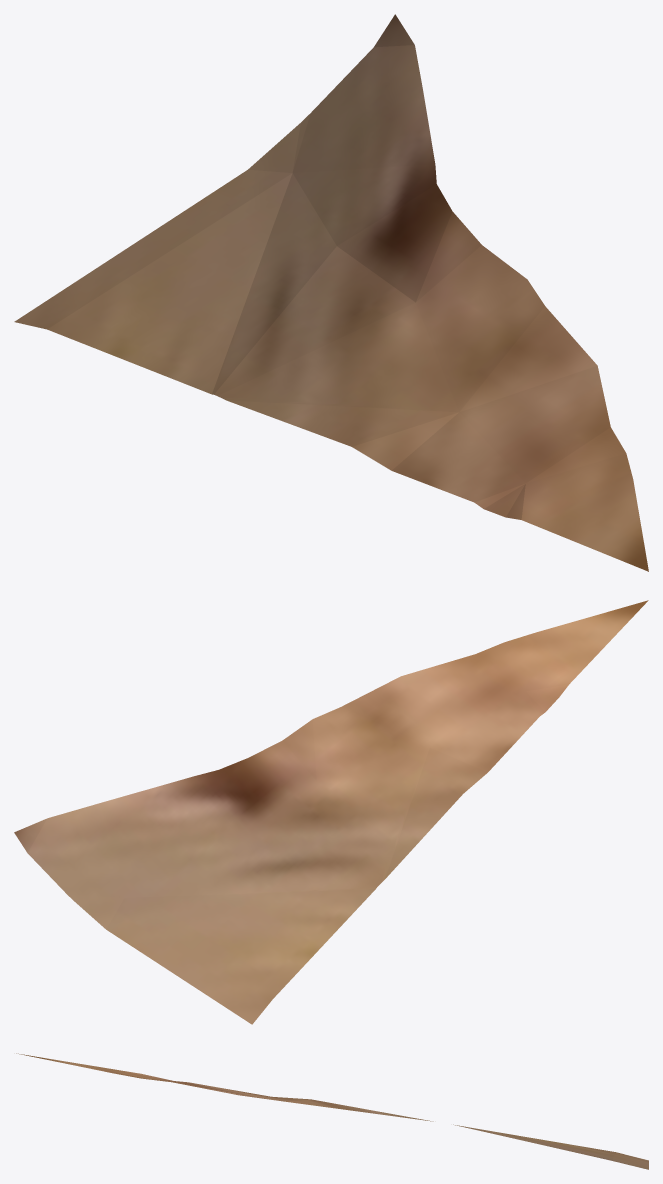
3 views of the same model, one above another, from view 1: azimuth 30°, elevation 25°; view 2: azimuth 150°, elevation 25°; view 3: azimuth 270°, elevation 25° (orthographic). The views are drawn at different scales.
Bounding box in the file's own units: 0.117 × 0.063 × 0.3374.
Materials: 1 (1 with a texture image).
